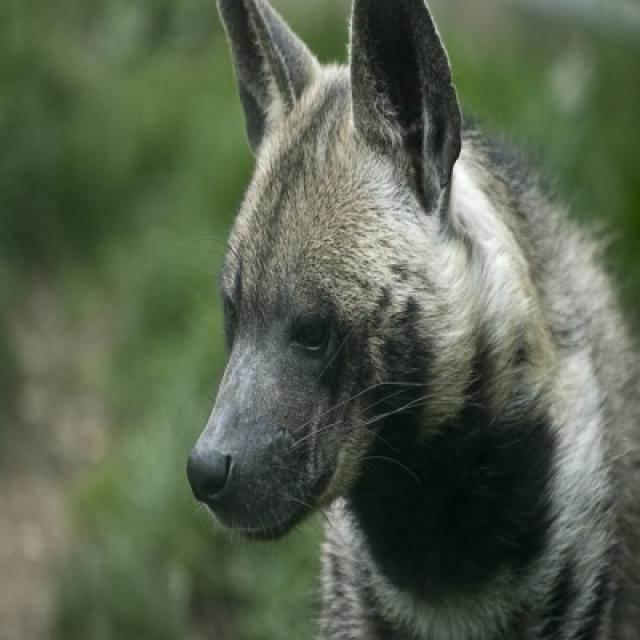hyena: (186, 0, 638, 638)
